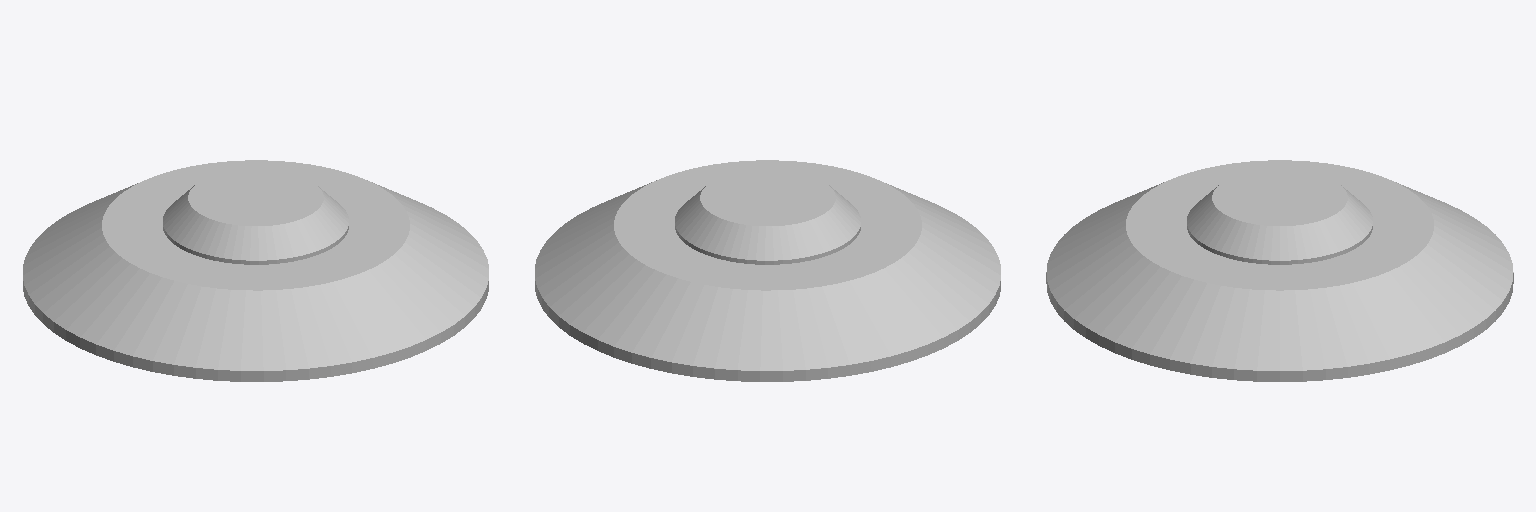
The model's file is kondzik.obj.
3 renders of one model, left to right at view 1: azimuth 30°, elevation 25°; view 2: azimuth 150°, elevation 25°; view 3: azimuth 270°, elevation 25°, orthographic.
Parts seen in each view (by area): view 1: Cylinder, Cylinder.002; view 2: Cylinder, Cylinder.002; view 3: Cylinder, Cylinder.002.
Part boxes in pixels (bbox=[...]): Cylinder: bbox=[23, 160, 488, 381]; Cylinder.002: bbox=[163, 169, 348, 264]; Cylinder: bbox=[535, 160, 1000, 381]; Cylinder.002: bbox=[675, 169, 860, 264]; Cylinder: bbox=[1046, 160, 1513, 381]; Cylinder.002: bbox=[1187, 169, 1372, 264].
Bounding box in the file's own units: 7.65 × 2.11 × 7.65.